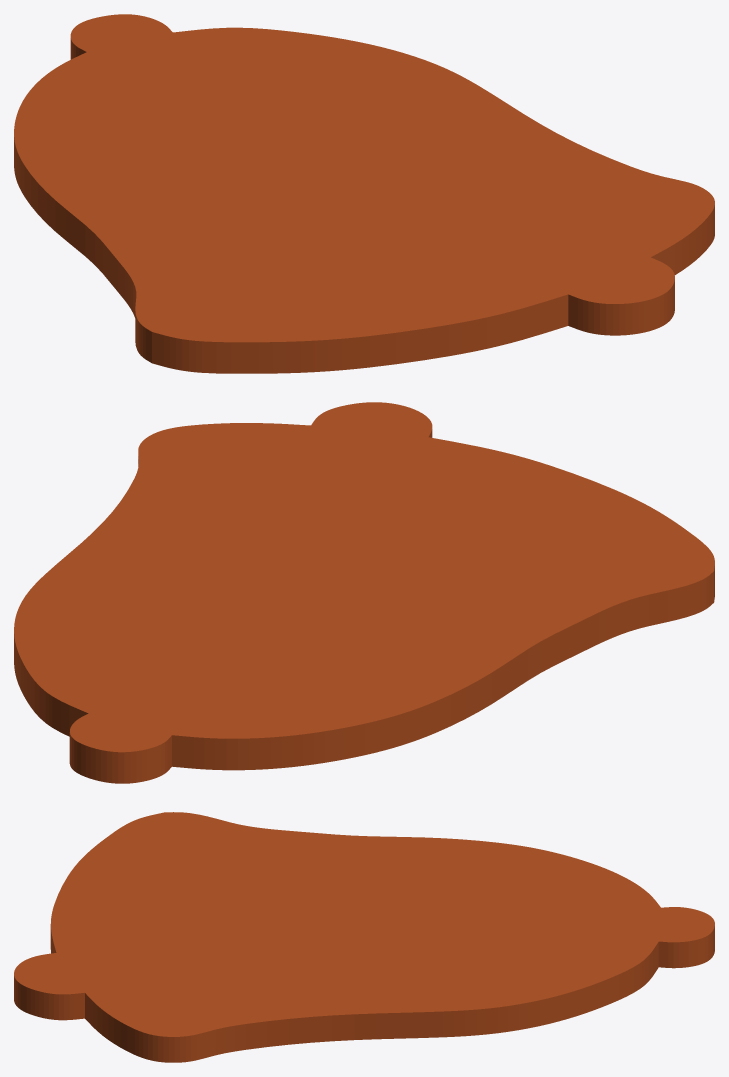
Rendered from bell_tiny.glb.
The picture shows the model from 3 angles, top to bottom: view 1: azimuth 30°, elevation 25°; view 2: azimuth 150°, elevation 25°; view 3: azimuth 270°, elevation 25°; orthographic projection. The views are drawn at different scales.
Visible parts, largest first — view 1: bell.002; view 2: bell.002; view 3: bell.002.
Part boxes in pixels (x1=…): bell.002: x1=14, y1=14, x2=714, y2=373; bell.002: x1=14, y1=402, x2=714, y2=783; bell.002: x1=14, y1=812, x2=714, y2=1062.
Bounding box in the file's own units: 0.056 × 0.003 × 0.0738.
